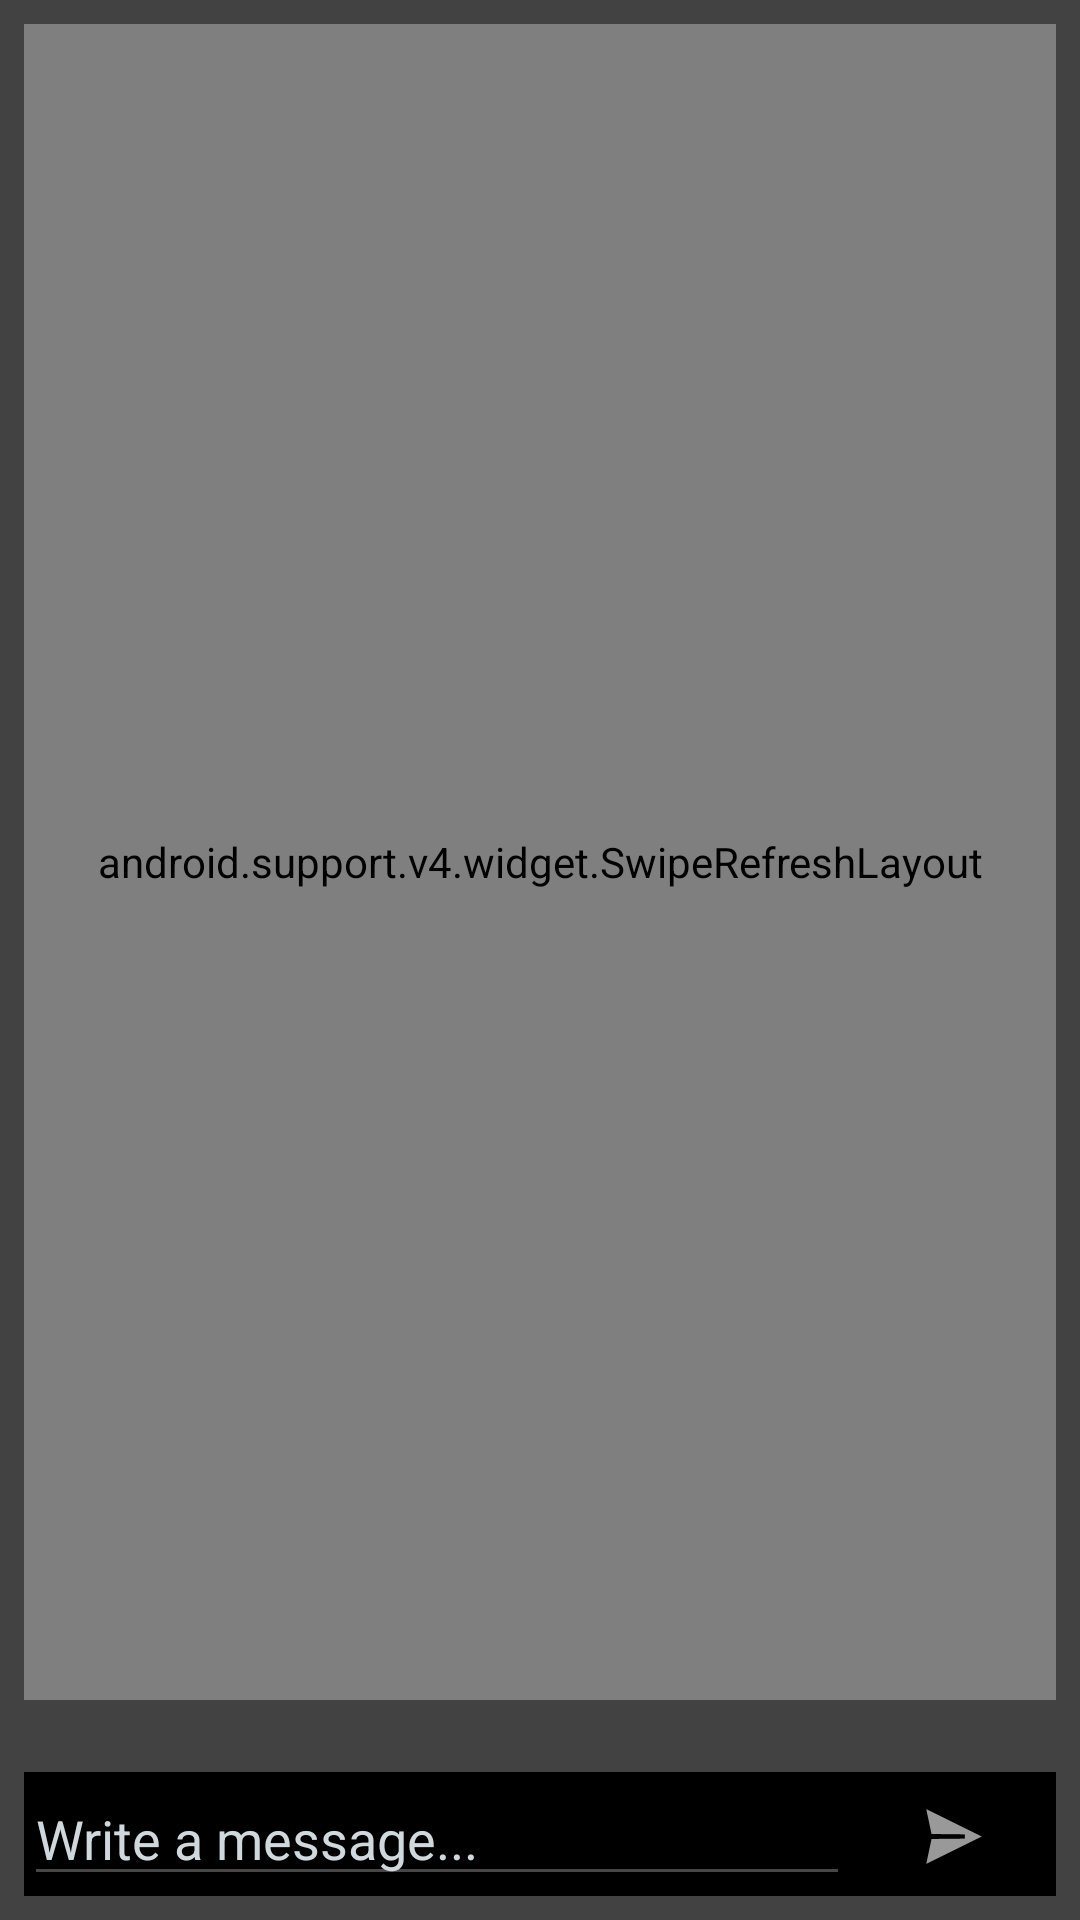

Locate icon controls on the screen. Image size 1080px×1920px, boxes as (x1, y1, x2, y2).
send: (926, 1809, 982, 1864)
